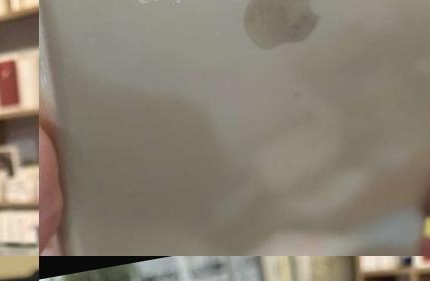scratch: (234, 0, 338, 59)
